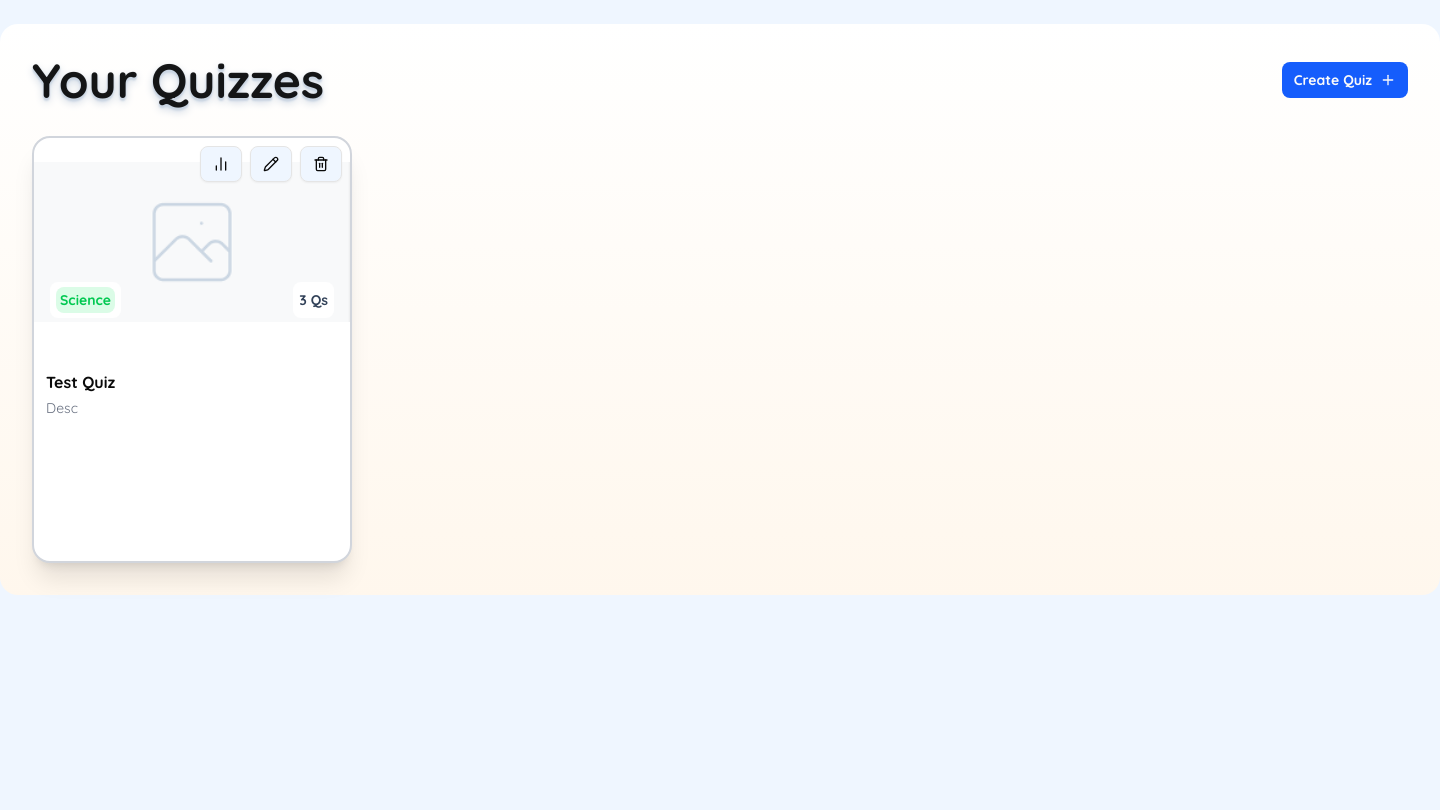
it: DeleteConfirmDialog UI behaviour › FE-73: shows delete dialog when the Delete Quiz button is clicked
The image size is (1440, 810).
What coordinates should you click on to do the following:
click the button named "delete quiz"
I would click on:
 (321, 164)
Its box is [300, 146, 342, 182].
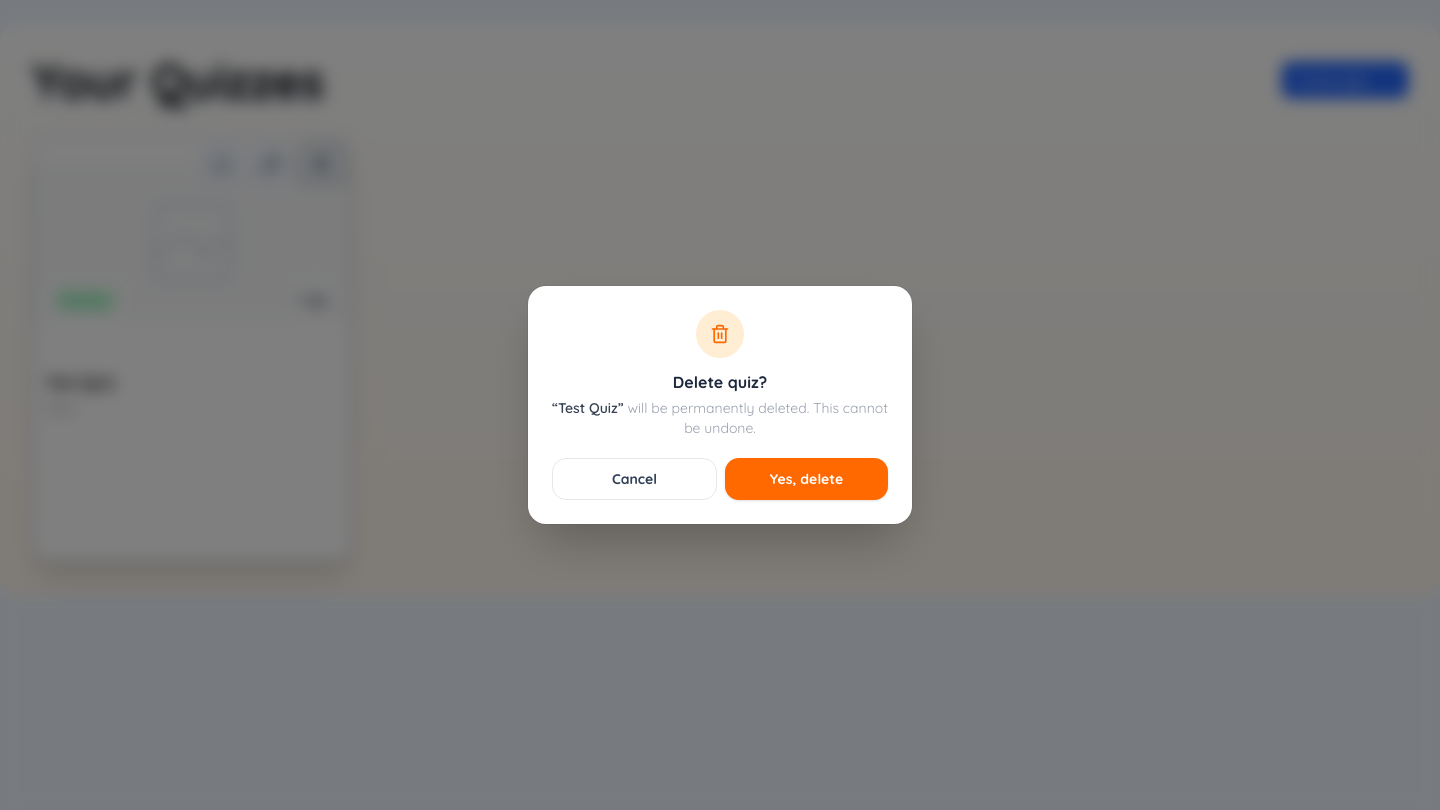
expect the text "Delete quiz?" is shown: met, box [673, 372, 767, 392]
expect the text "“Test Quiz”" is shown: met, box [552, 399, 624, 417]
